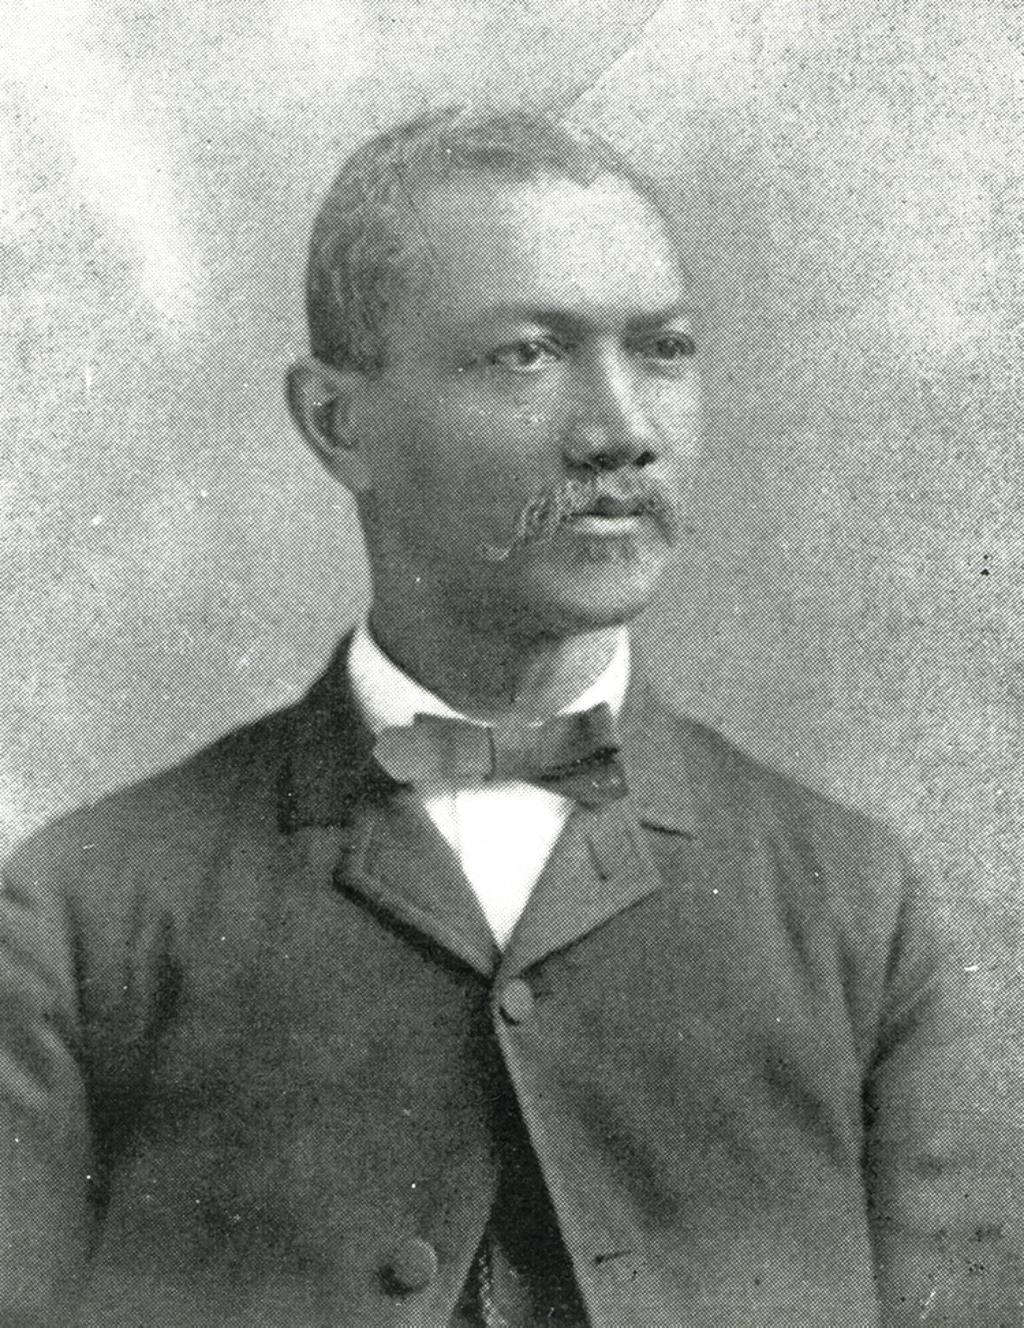face: (391, 207, 705, 619)
